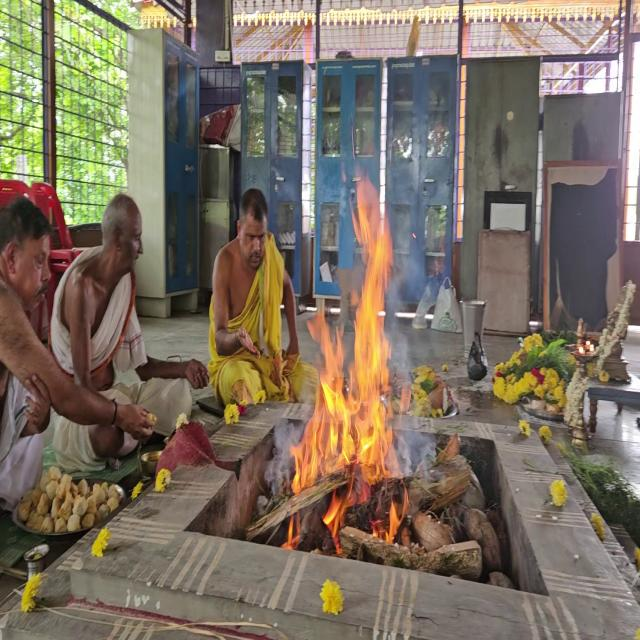fire: (284, 162, 412, 576)
